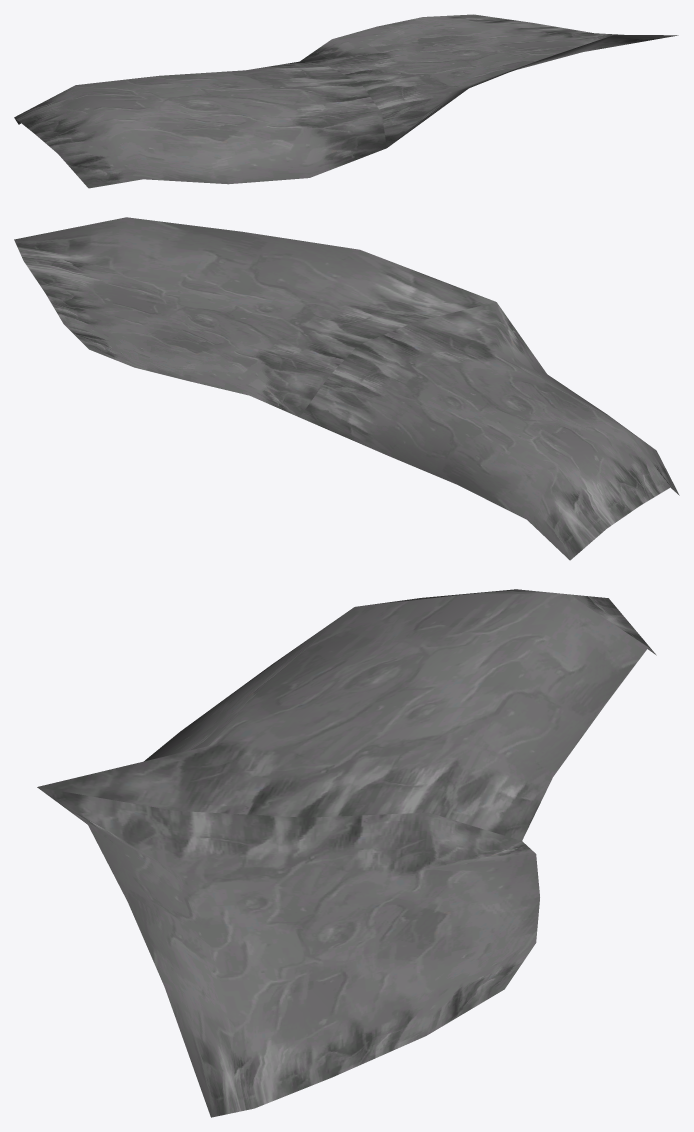
Rendered from SWORDLIGHT20_PS-AREA03_126.fbx.
3 views of the same model, one above another, from view 1: azimuth 30°, elevation 25°; view 2: azimuth 150°, elevation 25°; view 3: azimuth 270°, elevation 25° (orthographic). The views are drawn at different scales.
Parts seen in each view (by area): view 1: SWORDLIGHT20_PS-AREA03_126; view 2: SWORDLIGHT20_PS-AREA03_126; view 3: SWORDLIGHT20_PS-AREA03_126.
Boxes of the visible parts, x1,y1,x2,y2 form: SWORDLIGHT20_PS-AREA03_126: (14,14,678,188); SWORDLIGHT20_PS-AREA03_126: (14,217,679,560); SWORDLIGHT20_PS-AREA03_126: (37,589,656,1117).
Bounding box in the file's own units: 153041 × 18280 × 72076.
1 material, 1 textured.
